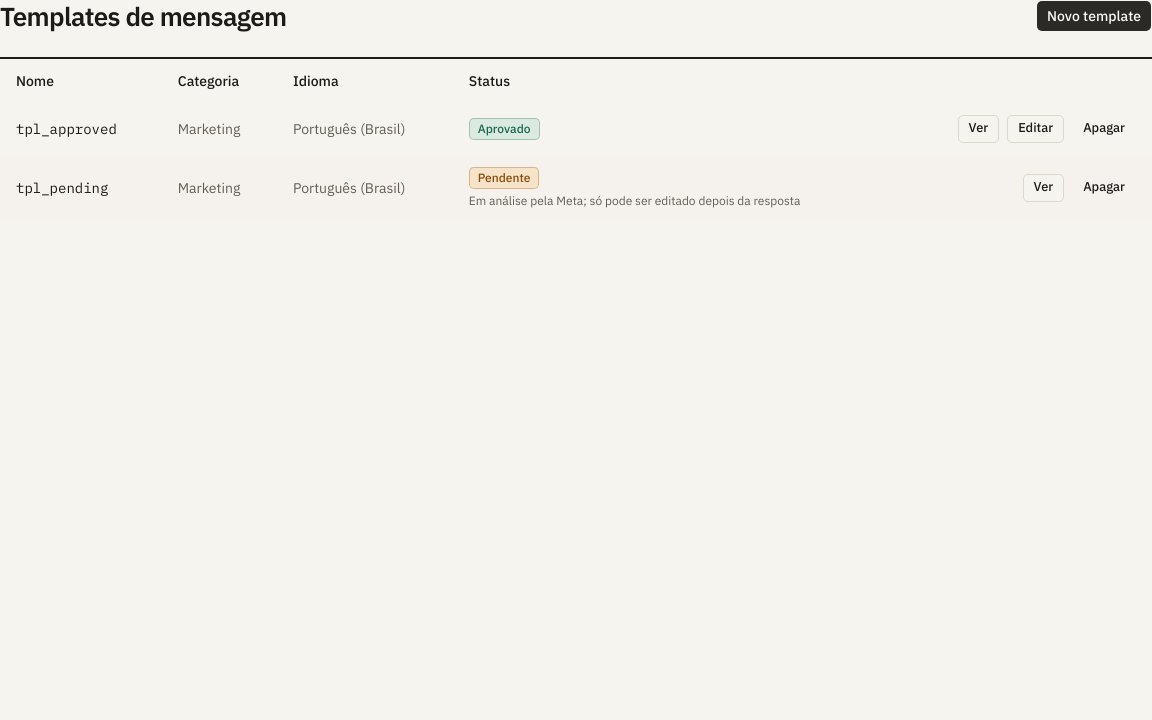
Scenario: B54-02 — criar, editar e apagar template › CA-B54-30: should confirmar antes de apagar, avisar do bloqueio de 30 dias, e ao confirmar apagar pelo nome na Meta
This screenshot has width=1152, height=720.
Click the button with aria-label "Apagar tpl_pending" at (1104, 188), box x1=1072 y1=174 x2=1136 y2=202
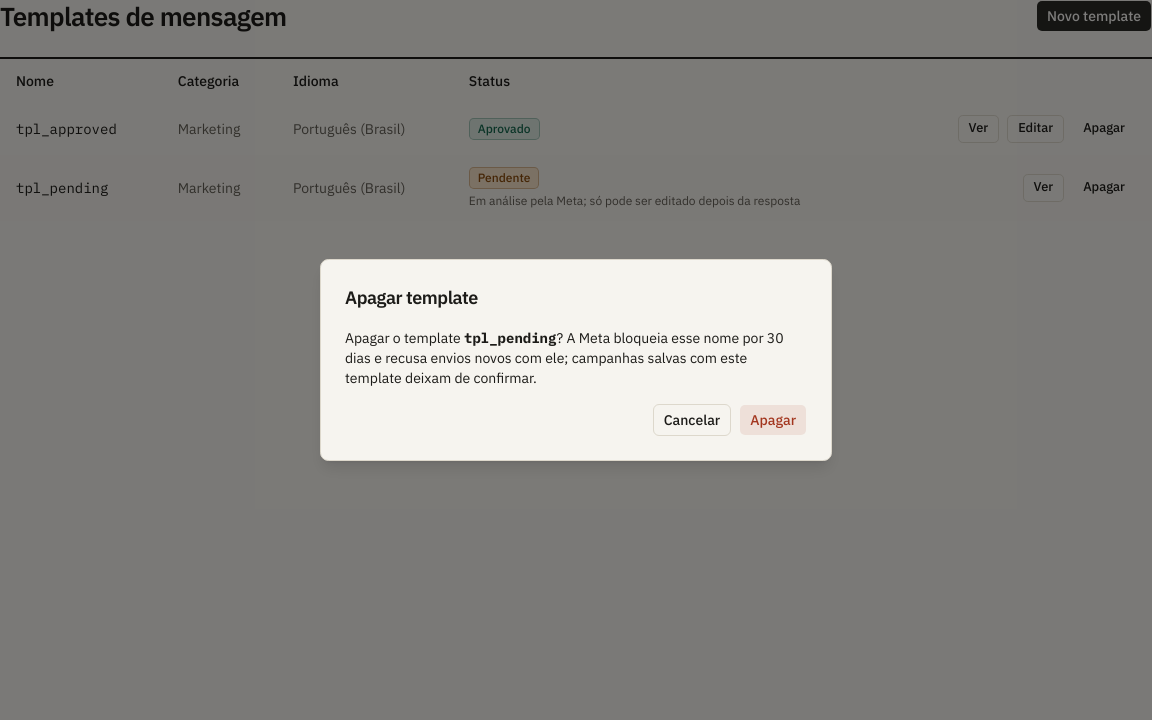
Expected: the text "A Meta bloqueia esse nome por 30 dias e recusa envios novos com ele; campanhas salvas com este template deixam de confir" is shown, x1=345 y1=329 x2=784 y2=387
Click the button "Cancelar" at (692, 420), box x1=653 y1=404 x2=731 y2=436
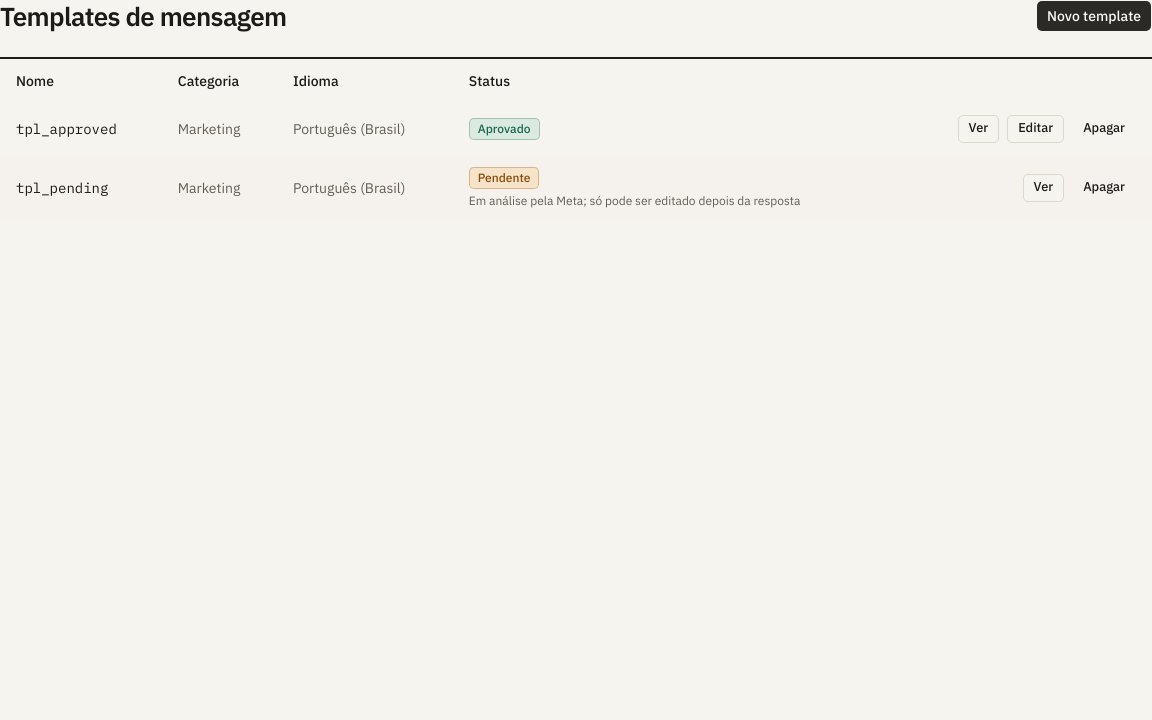
Expected: the text "tpl_pending" is shown, x1=0 y1=154 x2=162 y2=220
Expected: the text "bloqueia esse nome" is gone
Click the button with aria-label "Apagar tpl_pending" at (1104, 188), box x1=1072 y1=174 x2=1136 y2=202
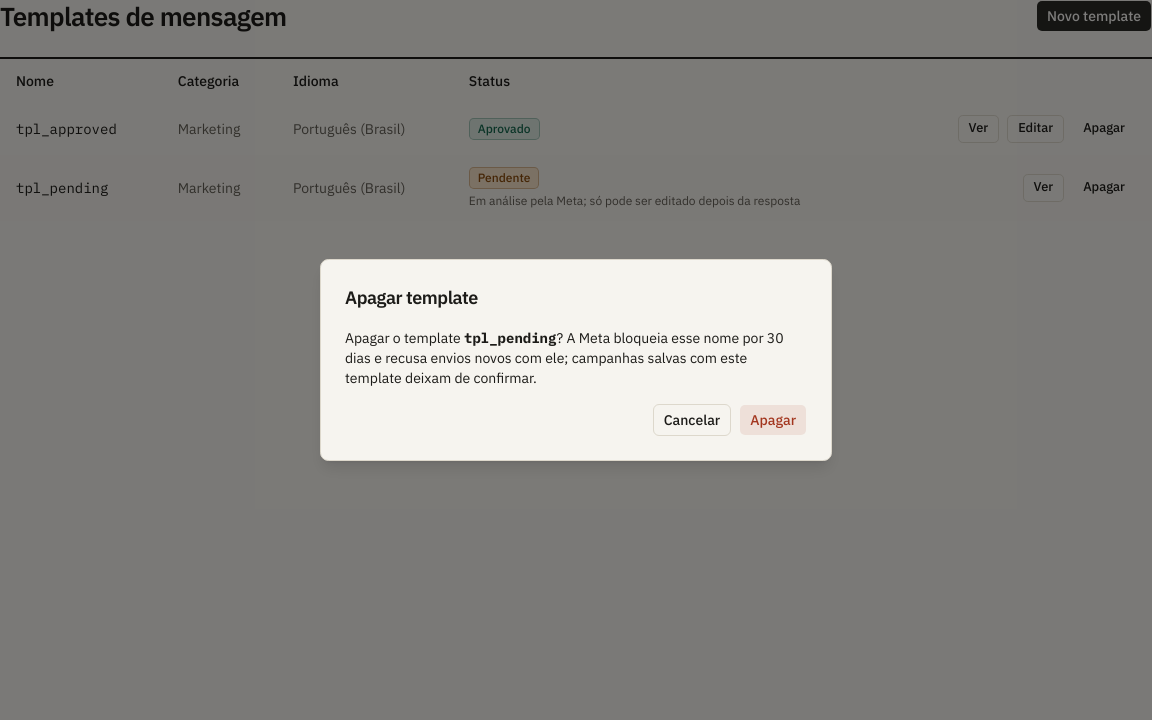
Click the button "Apagar" at (773, 420), box x1=739 y1=404 x2=807 y2=436
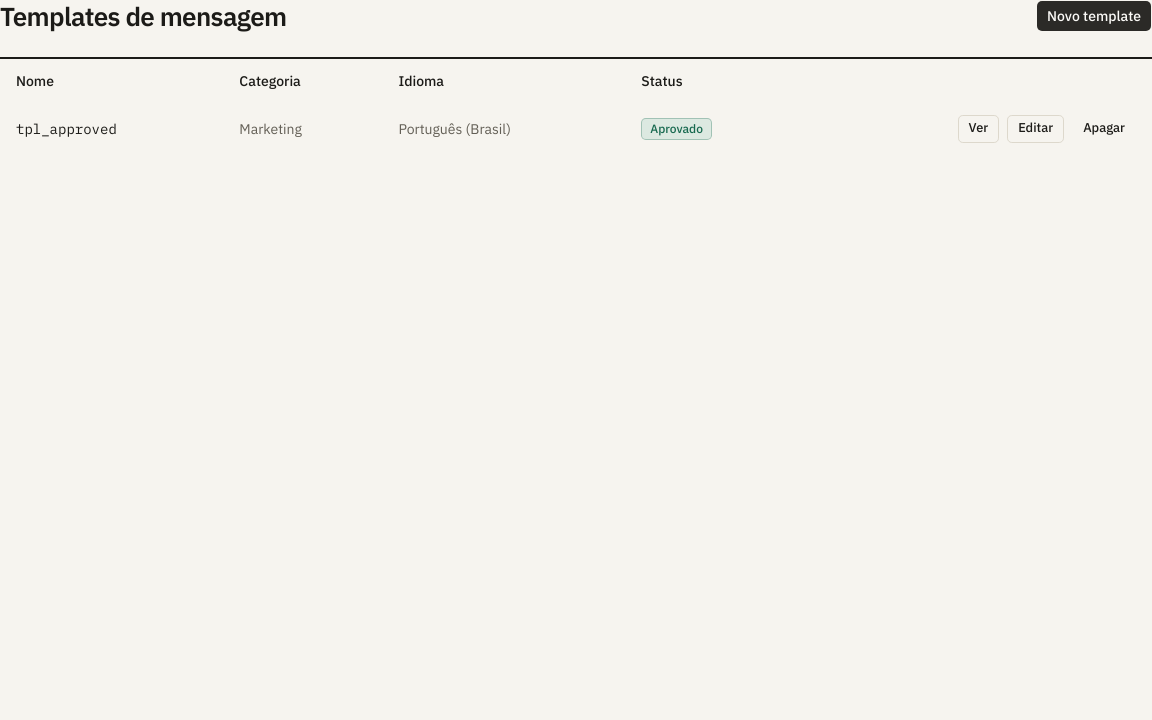
Expected: the text "tpl_approved" is shown, x1=0 y1=102 x2=223 y2=154
Expected: the text "tpl_pending" is gone
